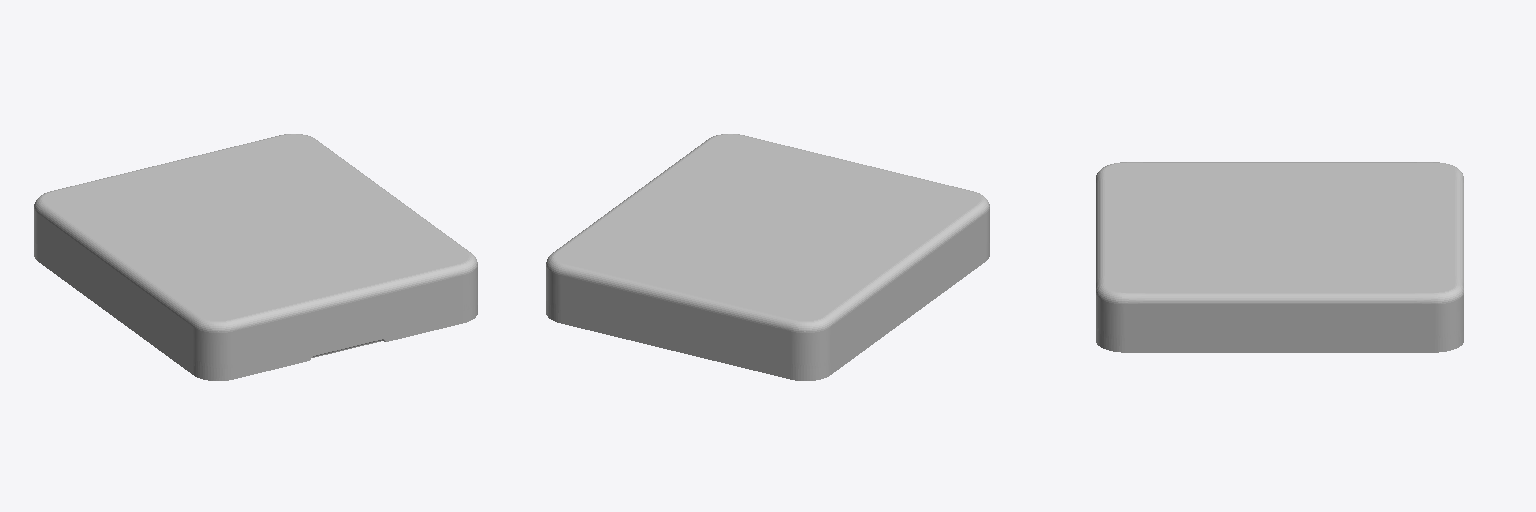
File: Top.obj
The picture shows the model from 3 angles: view 1: azimuth 30°, elevation 25°; view 2: azimuth 150°, elevation 25°; view 3: azimuth 270°, elevation 25°; orthographic projection.
Size of the model in its own units: 73.2 by 14 by 83.2.